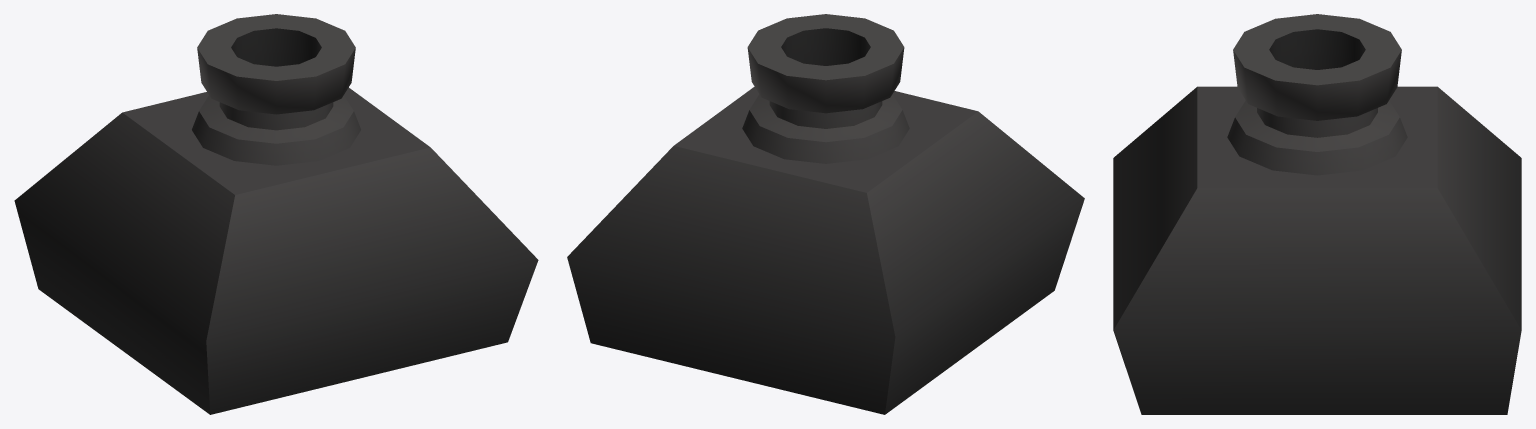
The model's file is Inkwell.fbx.
3 renders of one model, left to right at view 1: azimuth 30°, elevation 25°; view 2: azimuth 150°, elevation 25°; view 3: azimuth 270°, elevation 25°, orthographic. The views are drawn at different scales.
Parts seen in each view (by area): view 1: Inkwell; view 2: Inkwell; view 3: Inkwell.
Boxes of the visible parts, x1,y1,x2,y2 form: Inkwell: [14, 14, 538, 414]; Inkwell: [567, 14, 1084, 414]; Inkwell: [1113, 14, 1521, 414].
Bounding box in the file's own units: 10.59 × 8.24 × 10.59.
